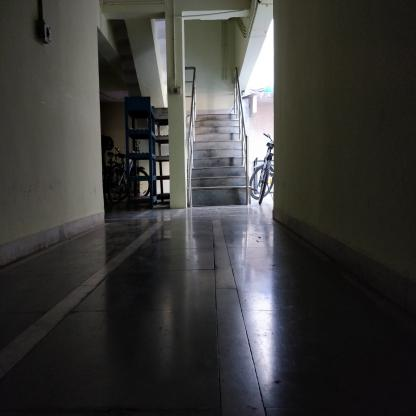stairs: (198, 114, 237, 211)
